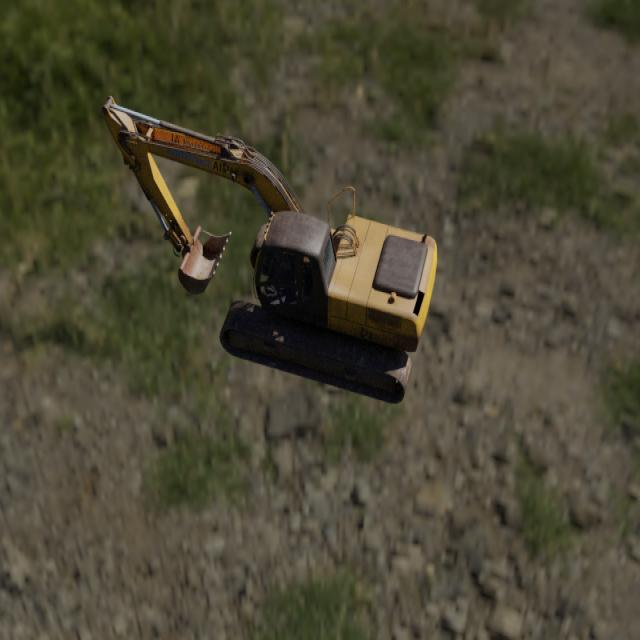excavator: (101, 95, 437, 404)
